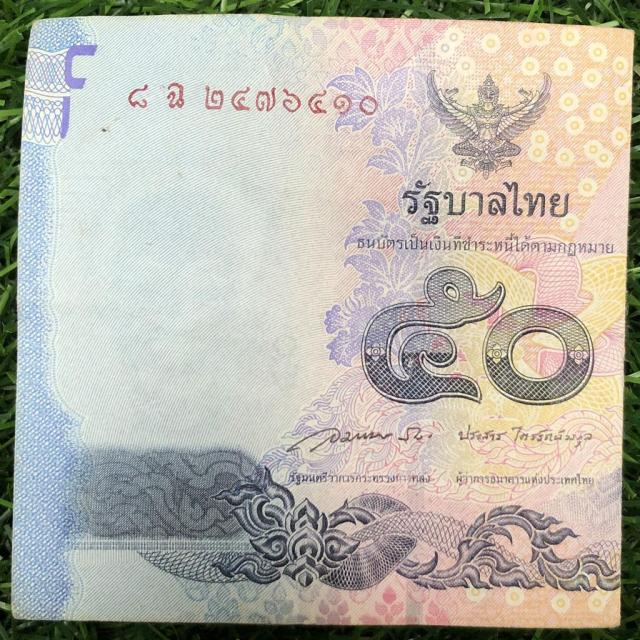THAI50: (9, 14, 636, 633)
